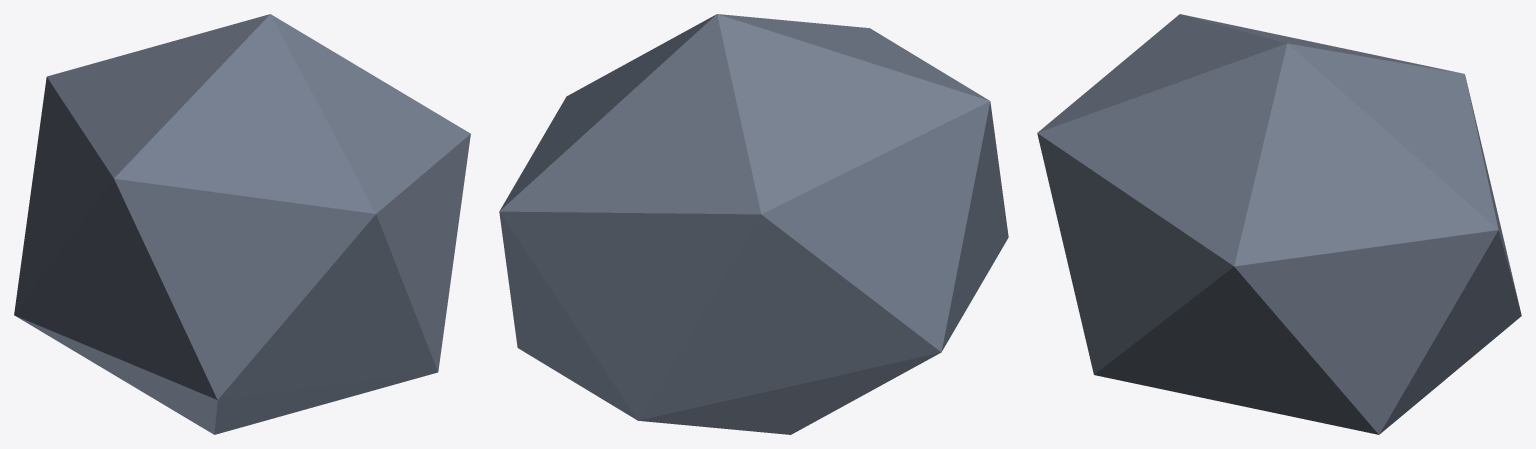
The model's file is EXT_Cairn_05_2.glb.
3 views of the same model, side by side, from view 1: azimuth 30°, elevation 25°; view 2: azimuth 150°, elevation 25°; view 3: azimuth 270°, elevation 25° (orthographic). The views are drawn at different scales.
Visible parts, largest first — view 1: EXT_Cairn_05_2; view 2: EXT_Cairn_05_2; view 3: EXT_Cairn_05_2.
Part boxes in pixels (left/top/right/bottom): EXT_Cairn_05_2: left=14, top=14, right=470, bottom=434; EXT_Cairn_05_2: left=499, top=14, right=1008, bottom=434; EXT_Cairn_05_2: left=1037, top=14, right=1521, bottom=434.
Size of the model in its own units: 0.6787 by 0.6308 by 0.7053.
